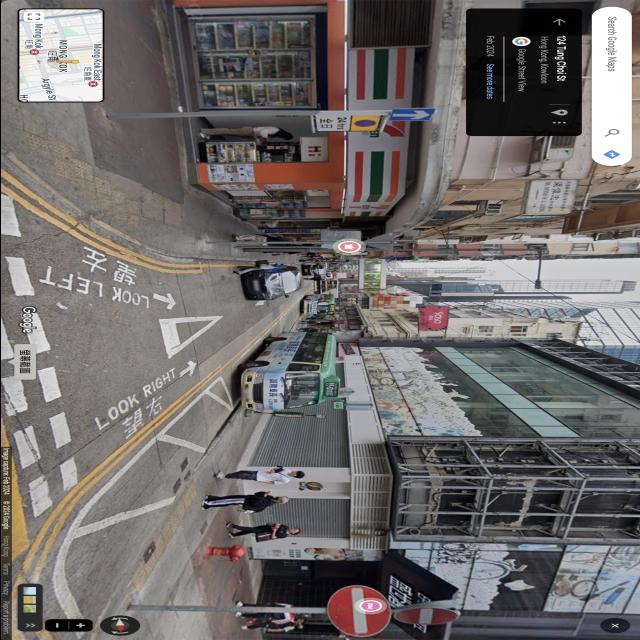Direction-Sign: (389, 109, 435, 121)
Order-Sign: (314, 116, 381, 132), (393, 608, 458, 624), (332, 402, 344, 409)
